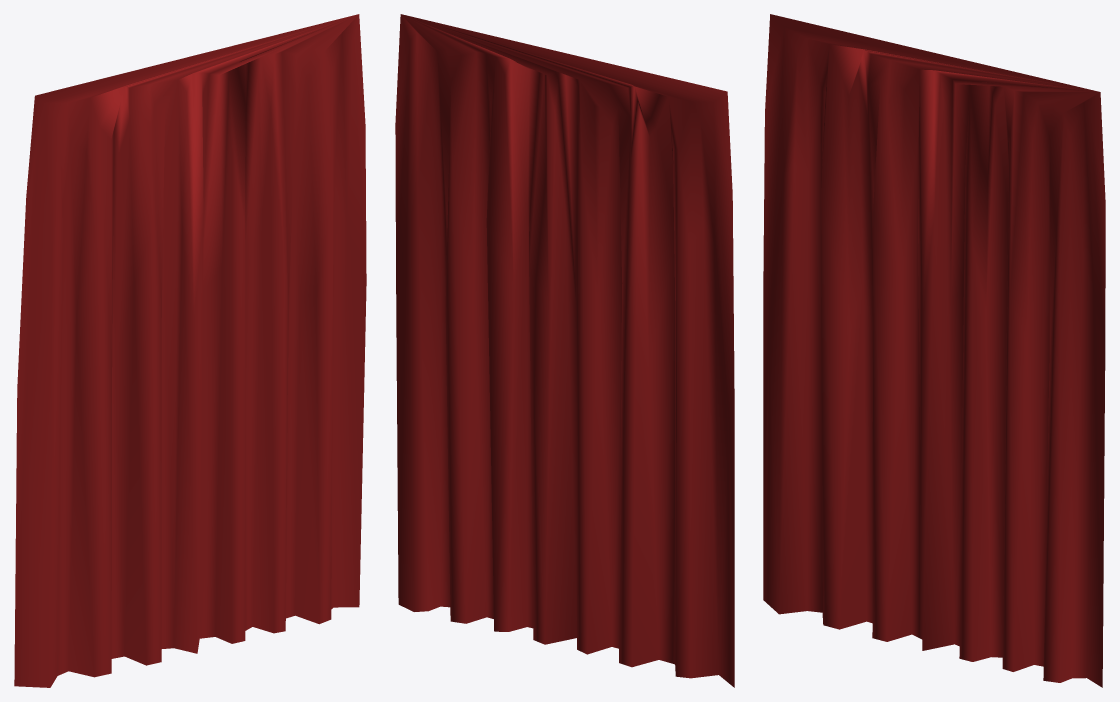
The model's file is curtain.glb.
3 renders of one model, left to right at view 1: azimuth 30°, elevation 25°; view 2: azimuth 150°, elevation 25°; view 3: azimuth 330°, elevation 25°, orthographic.
Size of the model in its own units: 2.48 by 4.06 by 0.2171.
